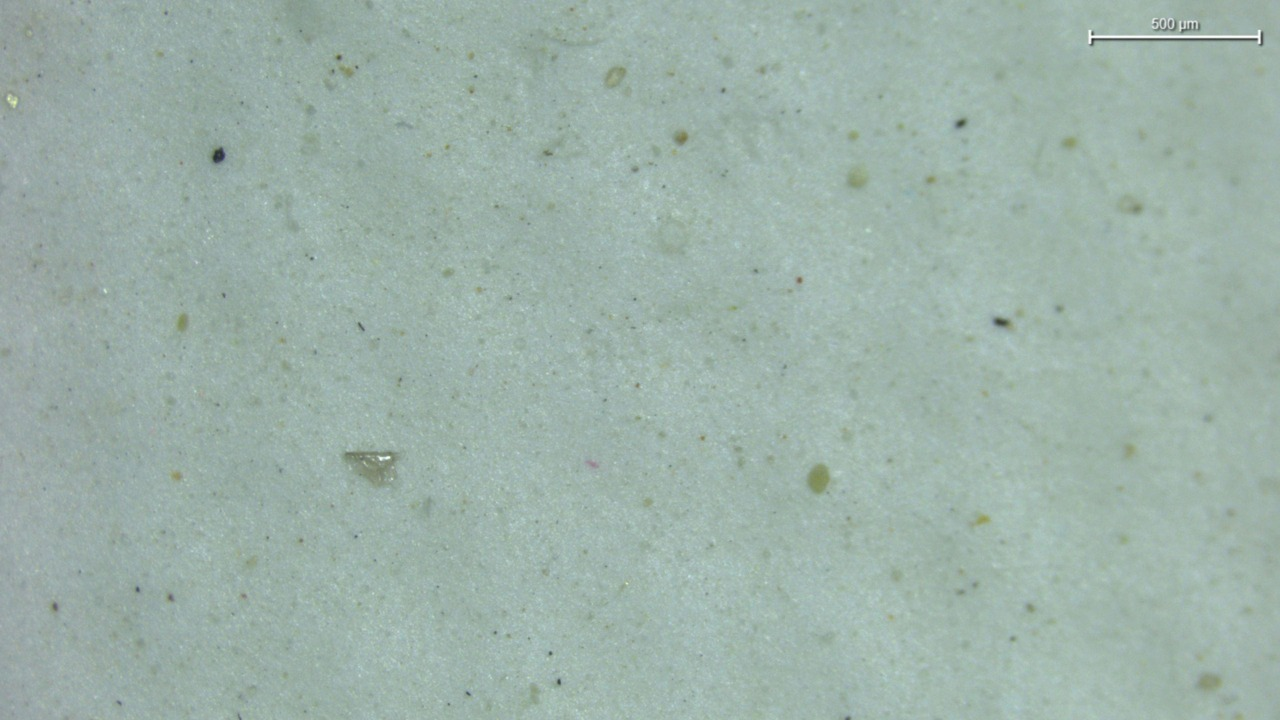microplastic_fragment: (344, 451, 398, 485)
